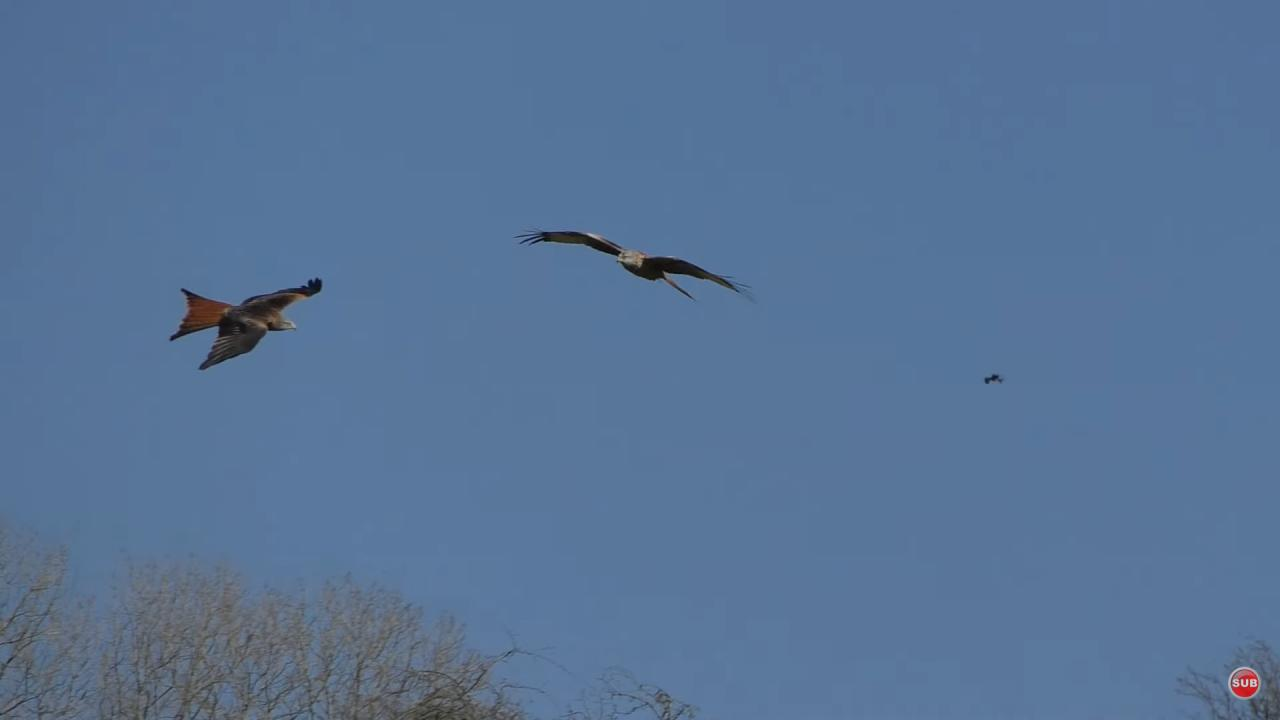Bird: (510, 213, 770, 311), (160, 264, 332, 378), (977, 367, 1015, 395)
